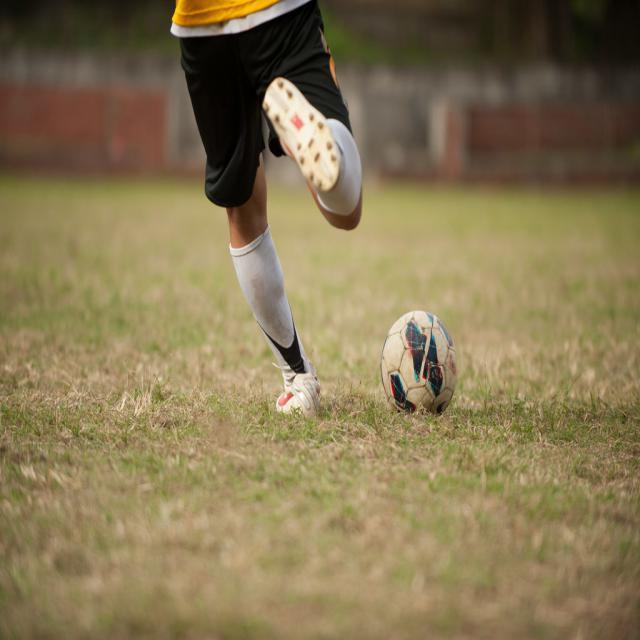football: (370, 302, 488, 420)
